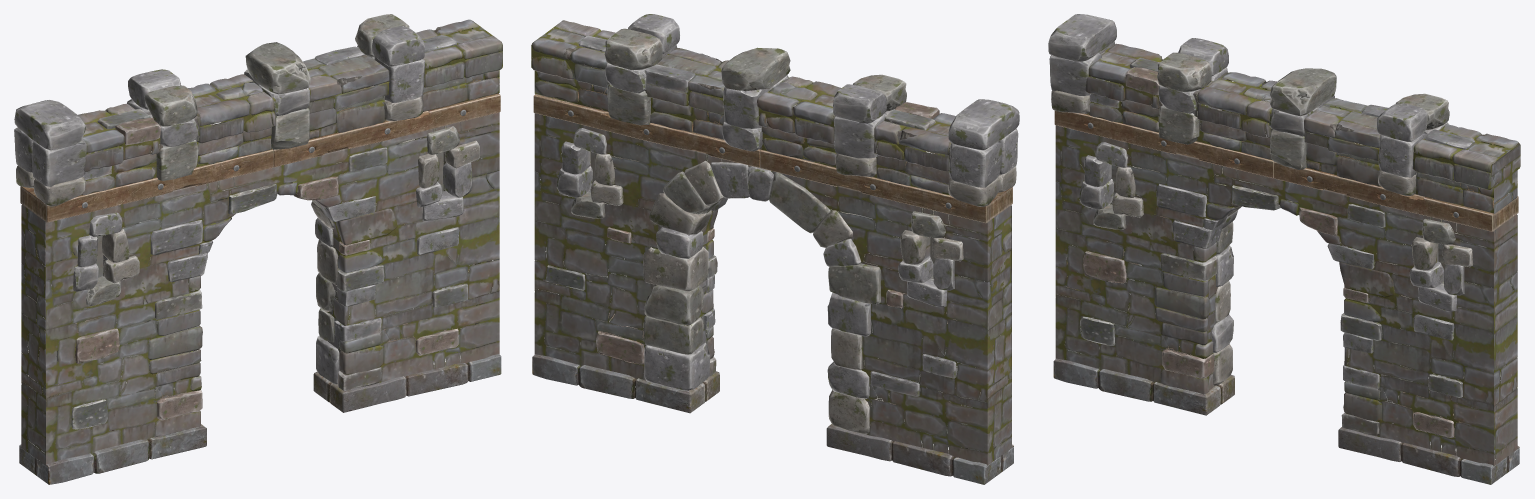
3 renders of one model, left to right at view 1: azimuth 30°, elevation 25°; view 2: azimuth 150°, elevation 25°; view 3: azimuth 330°, elevation 25°, orthographic. The views are drawn at different scales.
Visible parts, largest first — view 1: SM_Castle_Wall_Door_8x6_01_v1_LOD0; view 2: SM_Castle_Wall_Door_8x6_01_v1_LOD0; view 3: SM_Castle_Wall_Door_8x6_01_v1_LOD0.
Boxes of the visible parts, bbox=[...] form: SM_Castle_Wall_Door_8x6_01_v1_LOD0: bbox=[14, 14, 502, 484]; SM_Castle_Wall_Door_8x6_01_v1_LOD0: bbox=[531, 14, 1019, 484]; SM_Castle_Wall_Door_8x6_01_v1_LOD0: bbox=[1048, 14, 1520, 484].
Size of the model in its own units: 8.05 by 6.06 by 1.15.
Materials: 6 (6 with a texture image).
